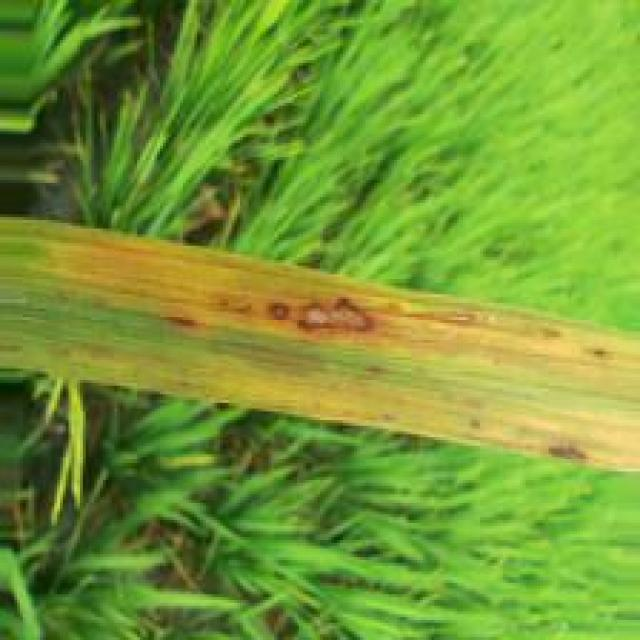Leaf_Blast: (52, 224, 640, 393)
